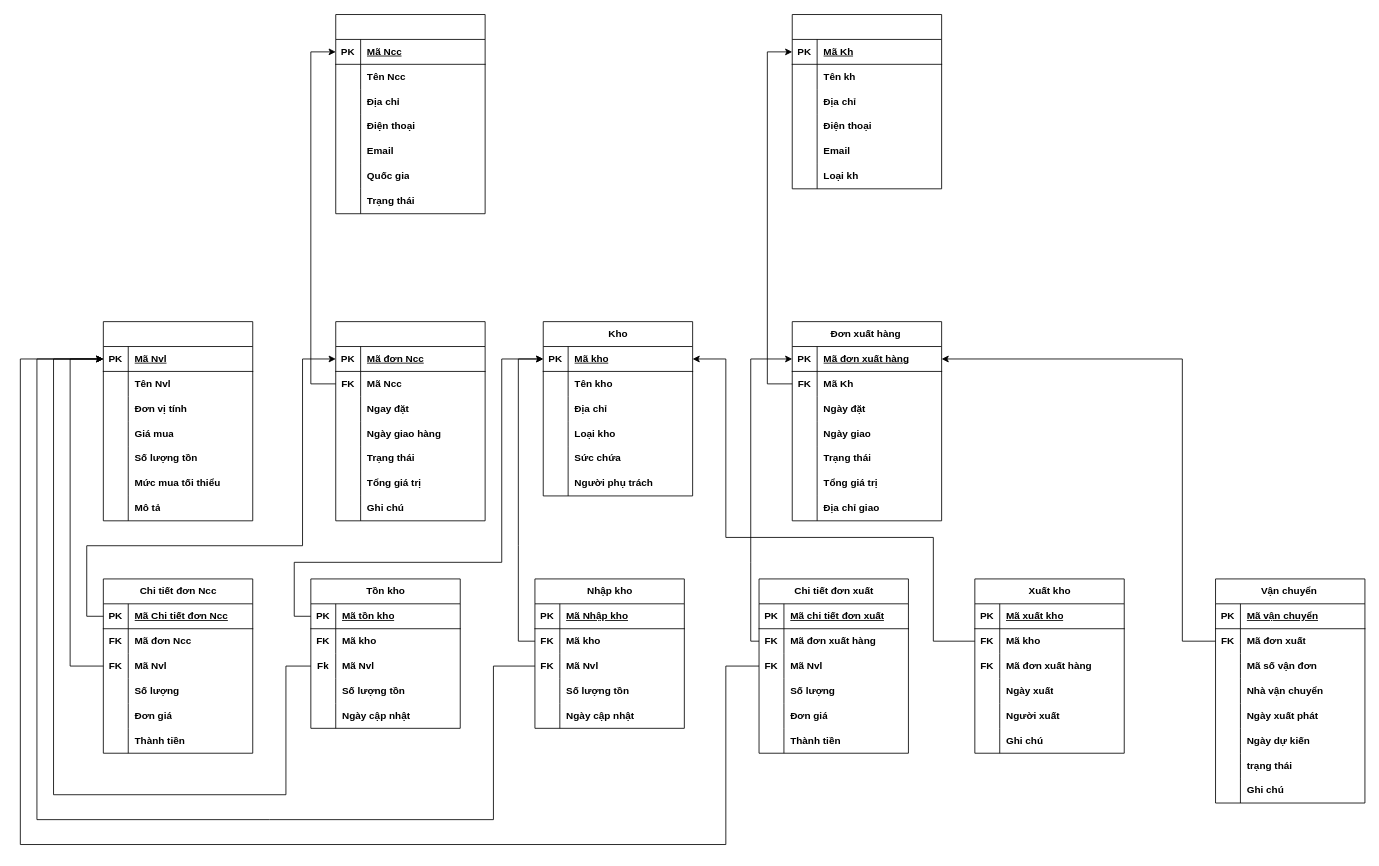
Image size: 1379x866. Some labels were removed from this diagram. Each missing label, with the box of its shape:
Khách hàng: (791, 14, 942, 189)
Nguyên vật liệu: (103, 321, 253, 521)
Nhà cung cấp: (335, 14, 485, 214)
Đơn đặt hàng Ncc: (335, 321, 485, 521)
